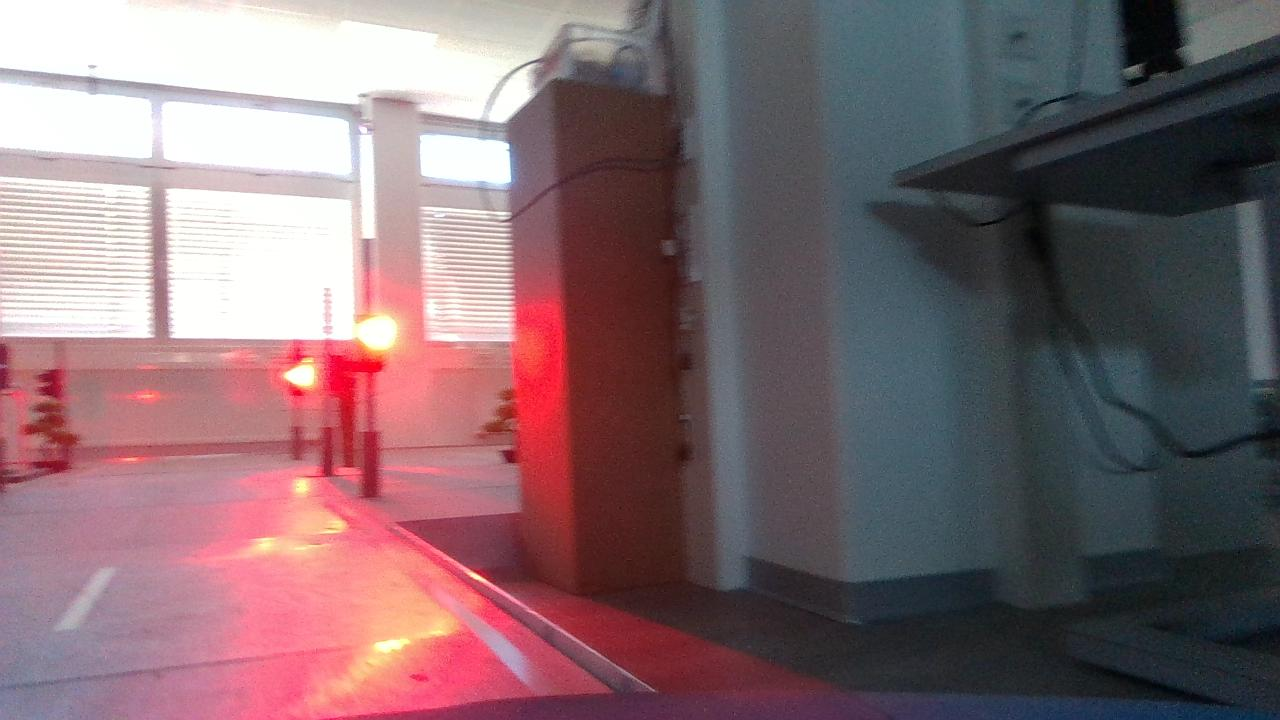traffic_light_red: (347, 301, 402, 384)
